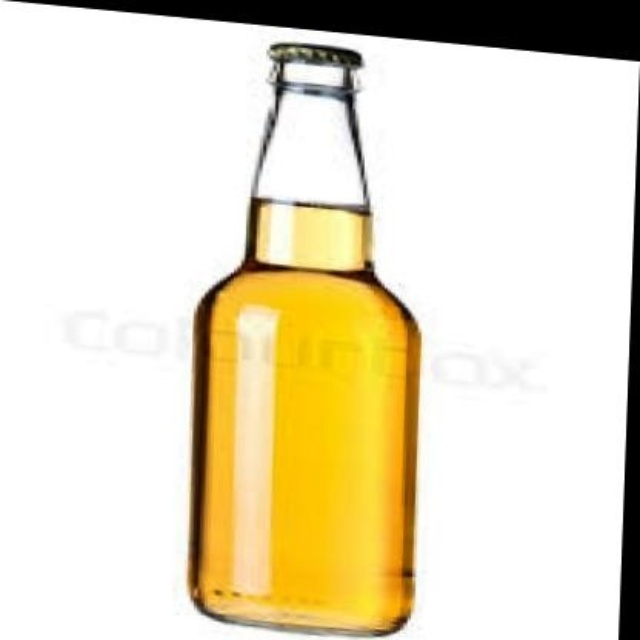trash: (189, 43, 418, 632), (258, 95, 358, 200)
